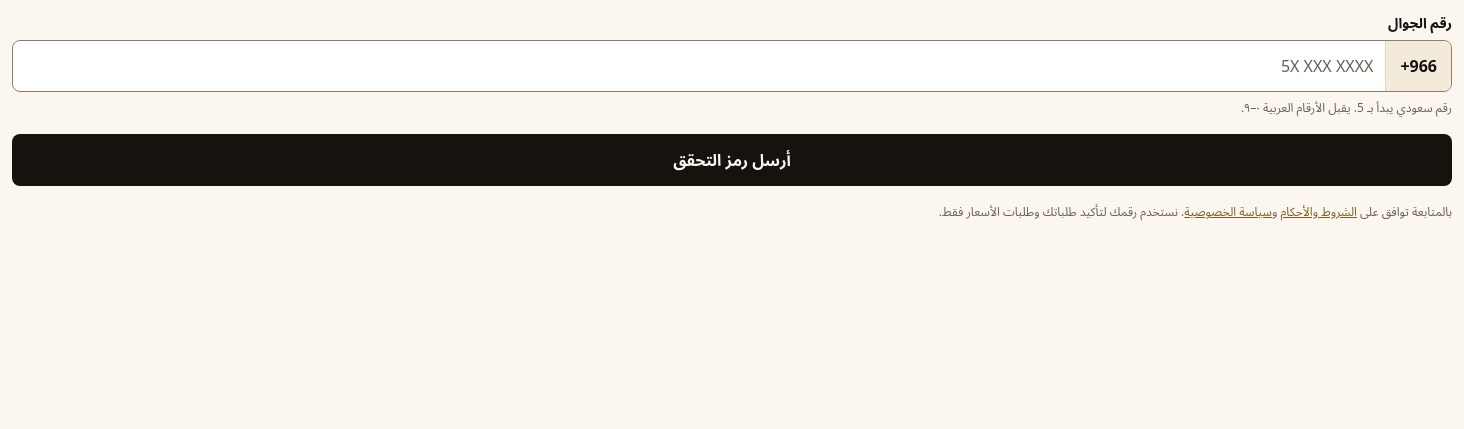
Scenario: CustomerLoginForm › wrong code: inline alert, field marked invalid, digits kept; unsafe next is ignored
Later steps or results of the test are not shown.
Step 1. Type "551234567" into the field labelled "رقم الجوال" → (699, 66), box [13,41,1385,91]
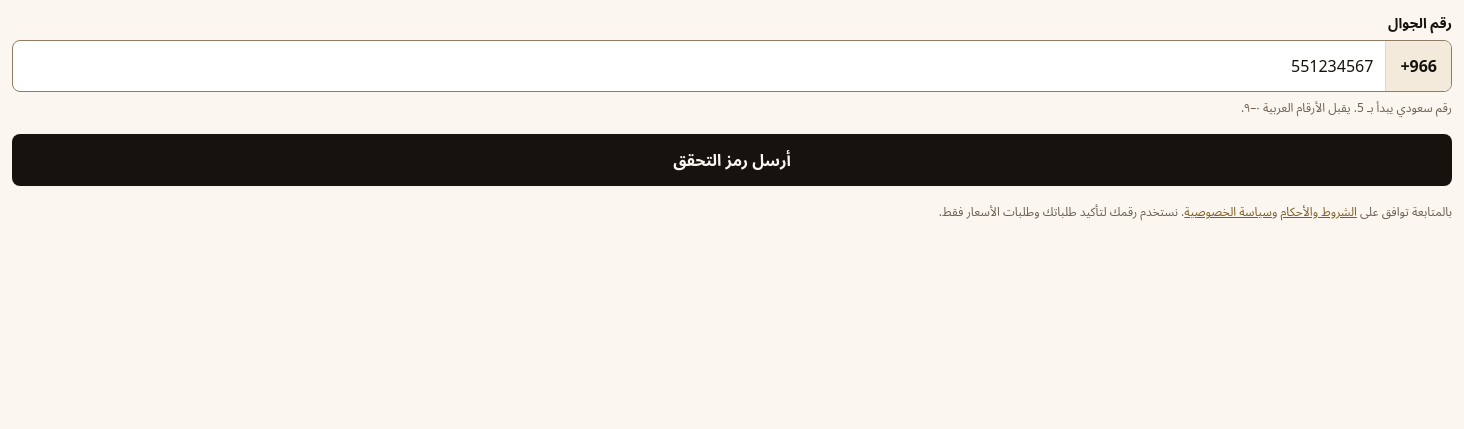
Step 2. Click the button "أرسل رمز التحقق" → (732, 160), box [12,134,1452,186]
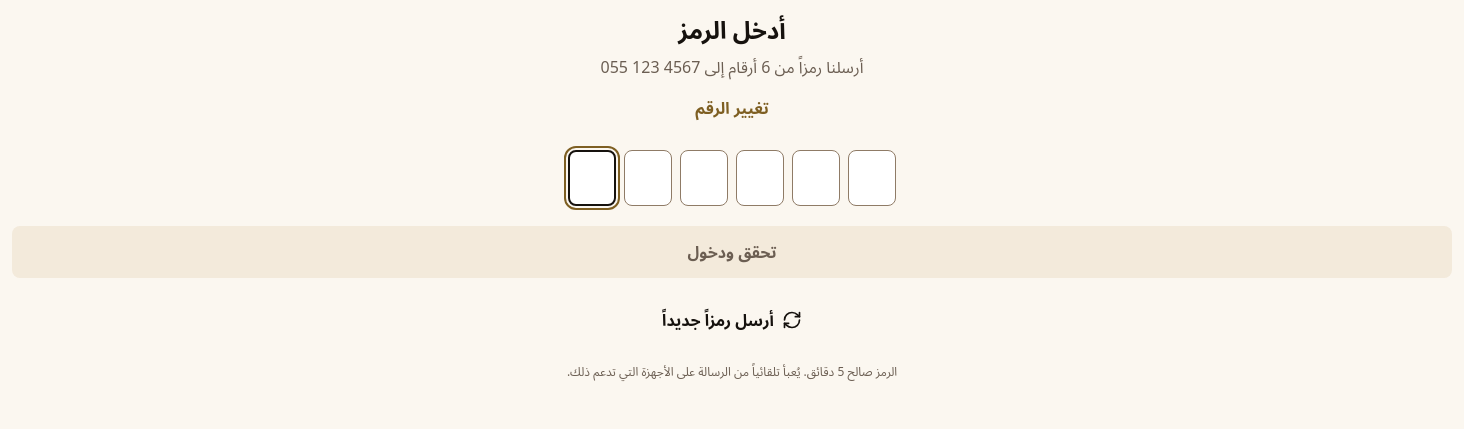
Step 3. Replace the text in the field named "رمز التحقق من 6 أرقام" with "000000" → (732, 178), box [568,150,896,206]
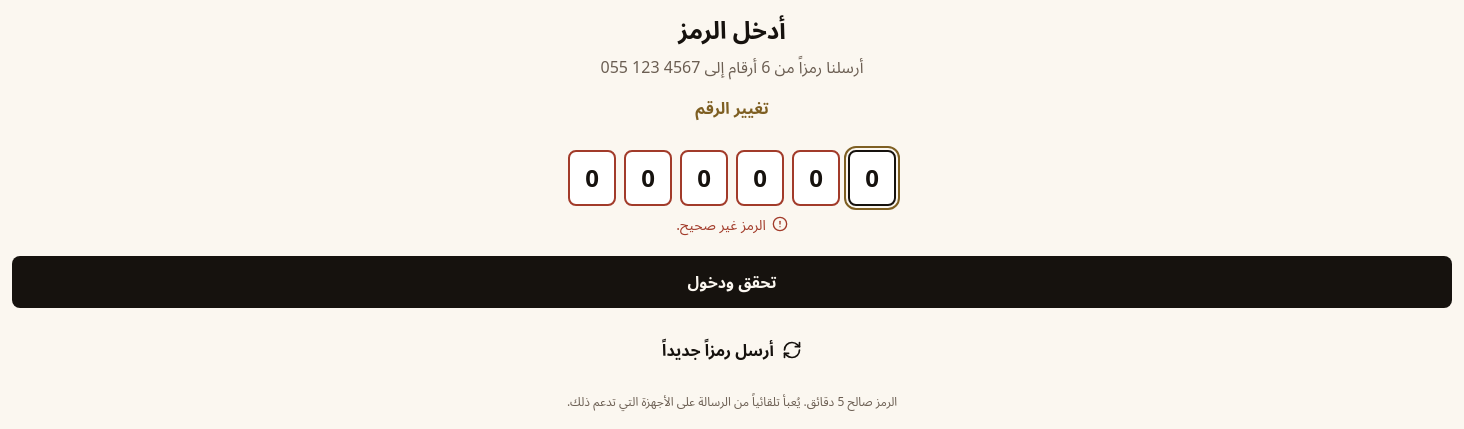
Expected: the element named "رمز التحقق من 6 أرقام" holds "000000", [568,150,896,206]
Expected: the text "الرمز غير صحيح." is shown, [676,214,766,236]
